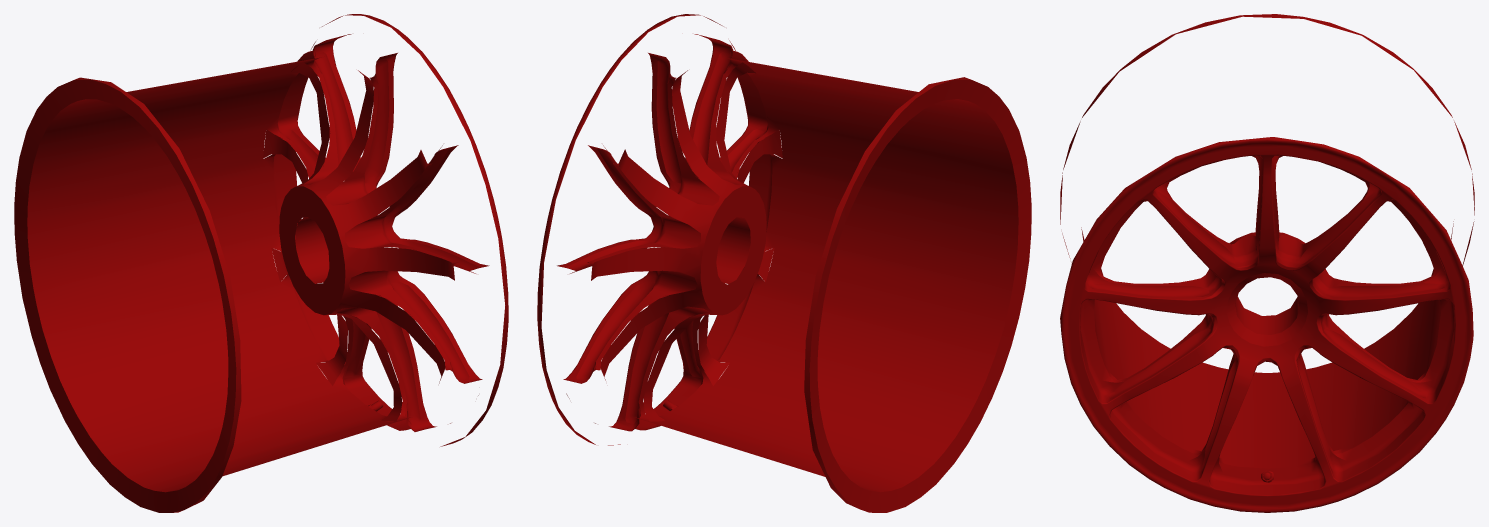
Rendered from honda_nsx_gt3_rim_lr_Lod1.gltf.
The picture shows the model from 3 angles, left to right: view 1: azimuth 30°, elevation 25°; view 2: azimuth 150°, elevation 25°; view 3: azimuth 270°, elevation 25°; orthographic projection. The views are drawn at different scales.
Parts seen in each view (by area): view 1: honda_nsx_gt3_rim_lr_Lod1; view 2: honda_nsx_gt3_rim_lr_Lod1; view 3: honda_nsx_gt3_rim_lr_Lod1.
Part boxes in pixels (box(x1,y1,x2,y2)): honda_nsx_gt3_rim_lr_Lod1: box(14, 14, 508, 512); honda_nsx_gt3_rim_lr_Lod1: box(537, 14, 1031, 512); honda_nsx_gt3_rim_lr_Lod1: box(1060, 14, 1474, 512).
Size of the model in its own units: 0.3555 by 0.5002 by 0.5007.
